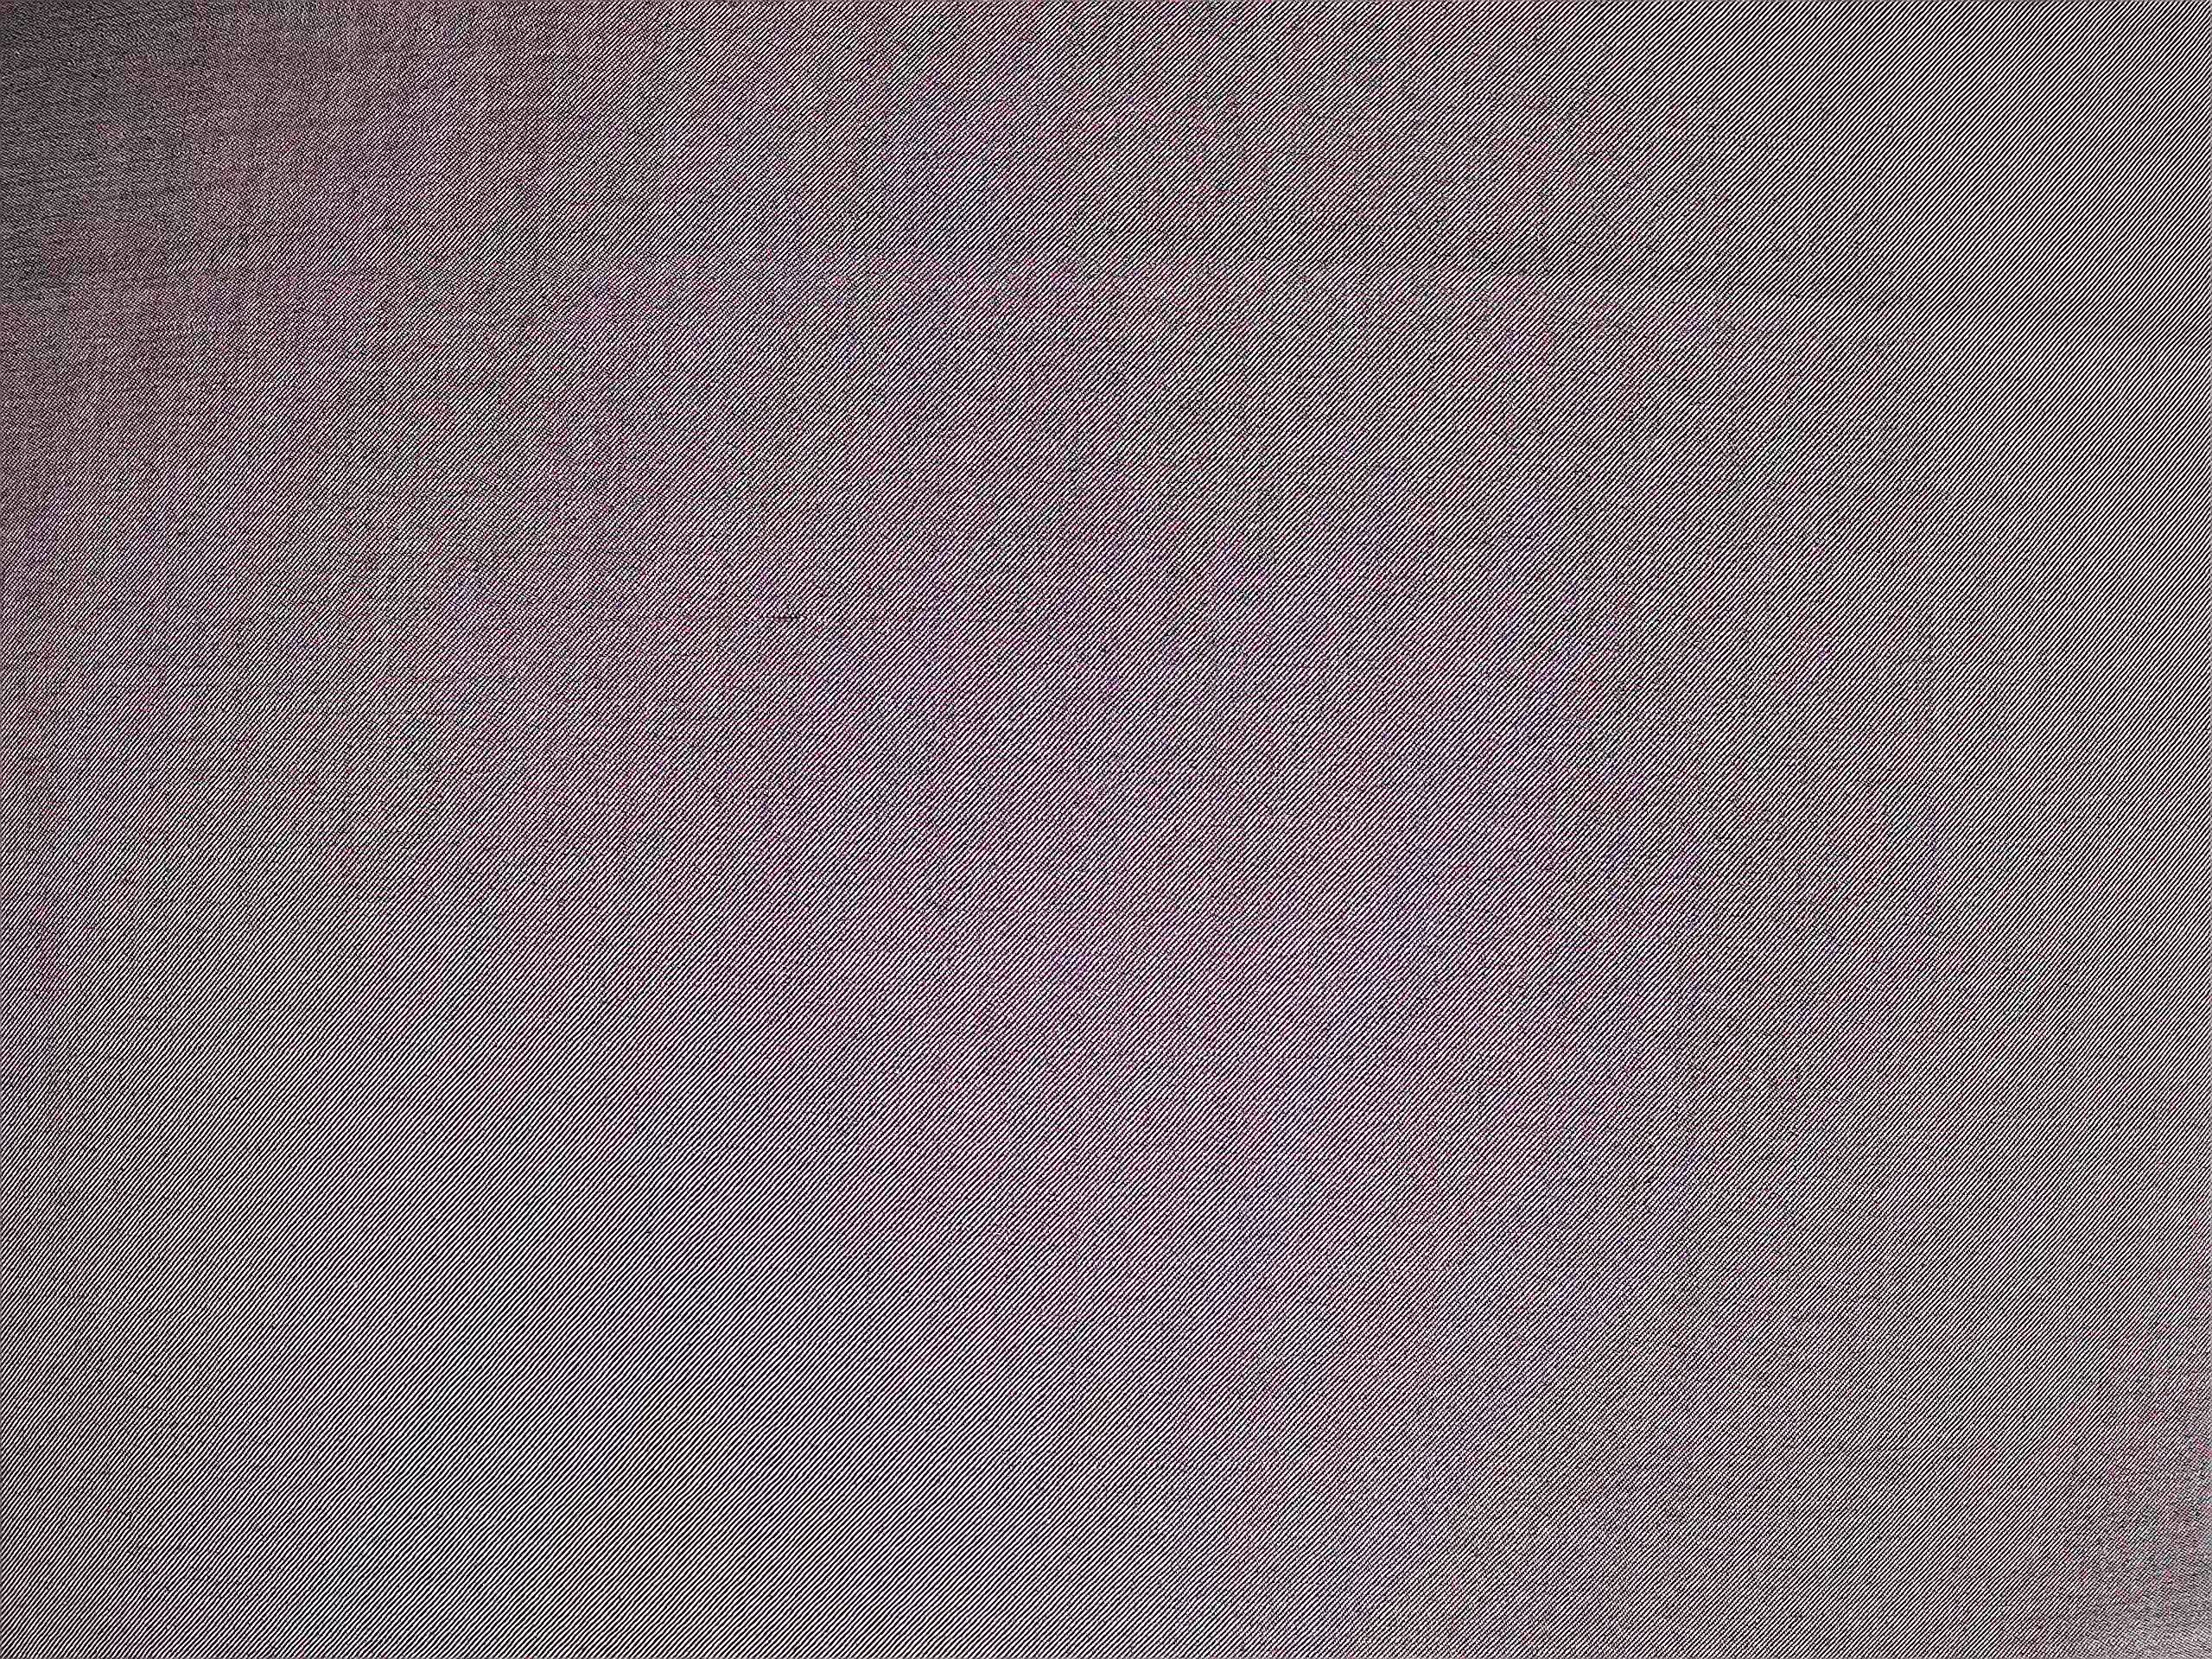others: (714, 575, 900, 655)
